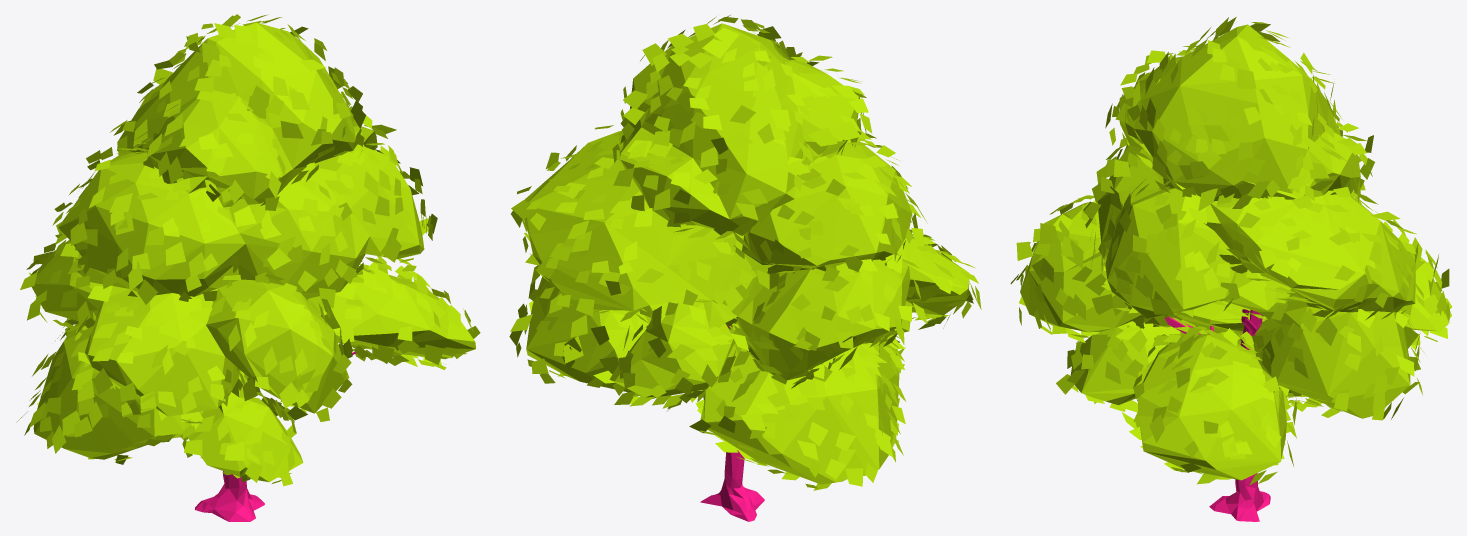
File: SM_Tree_Beech_Mature_C.fbx
3 views of the same model, side by side, from view 1: azimuth 30°, elevation 25°; view 2: azimuth 150°, elevation 25°; view 3: azimuth 270°, elevation 25° (orthographic). The views are drawn at different scales.
Visible parts, largest first — view 1: SM_Tree_Beech_Mature_C; view 2: SM_Tree_Beech_Mature_C; view 3: SM_Tree_Beech_Mature_C.
Part boxes in pixels (x1,y1,x2,y2): SM_Tree_Beech_Mature_C: (16,14,480,521); SM_Tree_Beech_Mature_C: (509,15,981,521); SM_Tree_Beech_Mature_C: (1010,17,1451,521).
Size of the model in its own units: 11.43 by 13.11 by 10.73.
